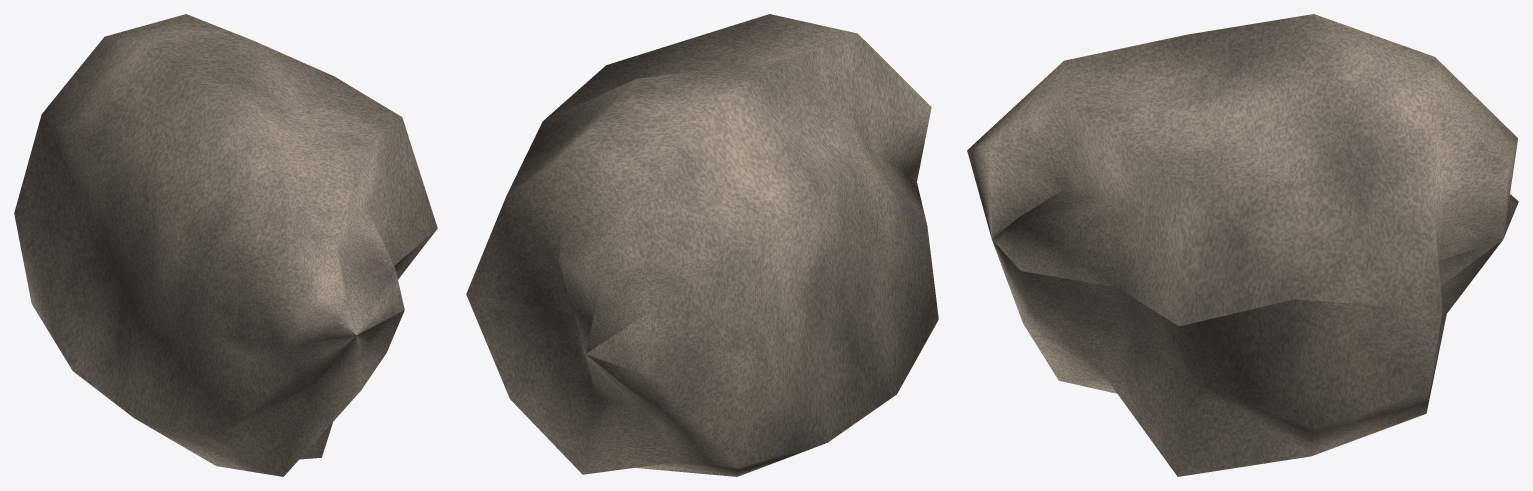
File: rock_2.obj
3 renders of one model, left to right at view 1: azimuth 30°, elevation 25°; view 2: azimuth 150°, elevation 25°; view 3: azimuth 270°, elevation 25°, orthographic. The views are drawn at different scales.
Bounding box in the file's own units: 1.85 × 2.28 × 2.78.
Materials: 1 (1 with a texture image).
